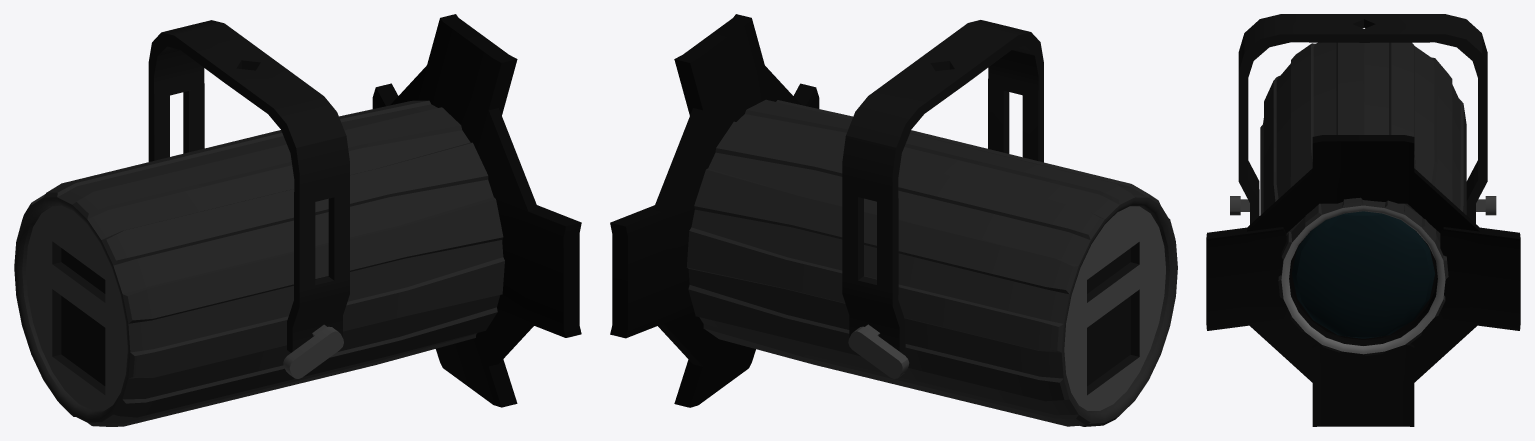
File: Venue_Light_02.glb
3 renders of one model, left to right at view 1: azimuth 30°, elevation 25°; view 2: azimuth 150°, elevation 25°; view 3: azimuth 270°, elevation 25°, orthographic. The views are drawn at different scales.
Visible parts, largest first — view 1: Mesh_Venue_Light_02; view 2: Mesh_Venue_Light_02; view 3: Mesh_Venue_Light_02.
Part boxes in pixels (x1,y1,x2,y2): Mesh_Venue_Light_02: (14, 14, 581, 426); Mesh_Venue_Light_02: (610, 14, 1177, 426); Mesh_Venue_Light_02: (1206, 14, 1520, 426).
Size of the model in its own units: 0.4121 by 0.3556 by 0.3291.
1 material, 1 textured.
